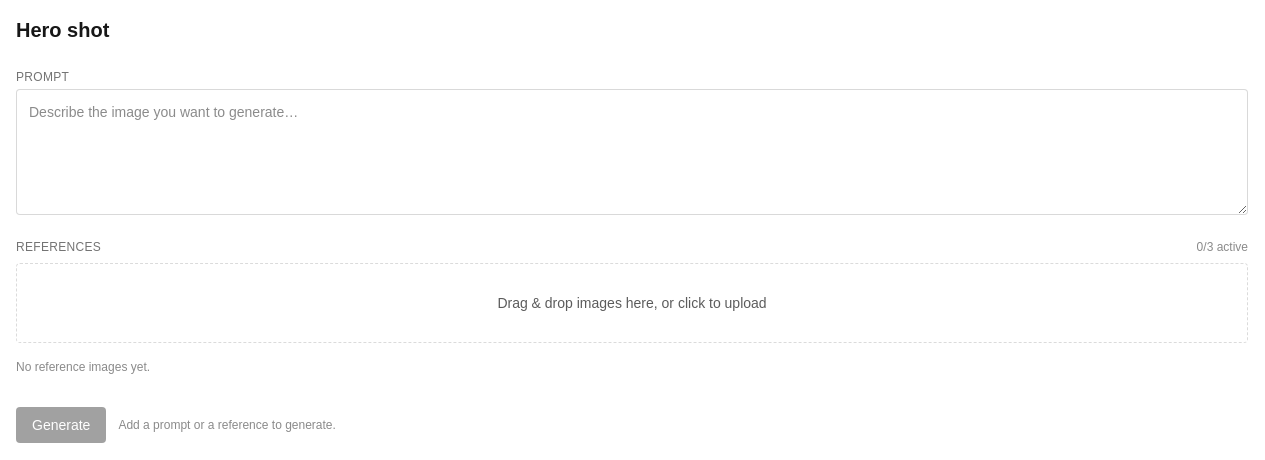
Test: TaskDetail — rename gate (BI-030.3) › restores the field when the rename is declined
The image size is (1265, 460).
Replace the text in the field named "Task name" with "Hero banner": (632, 30) [16, 16, 1248, 45]
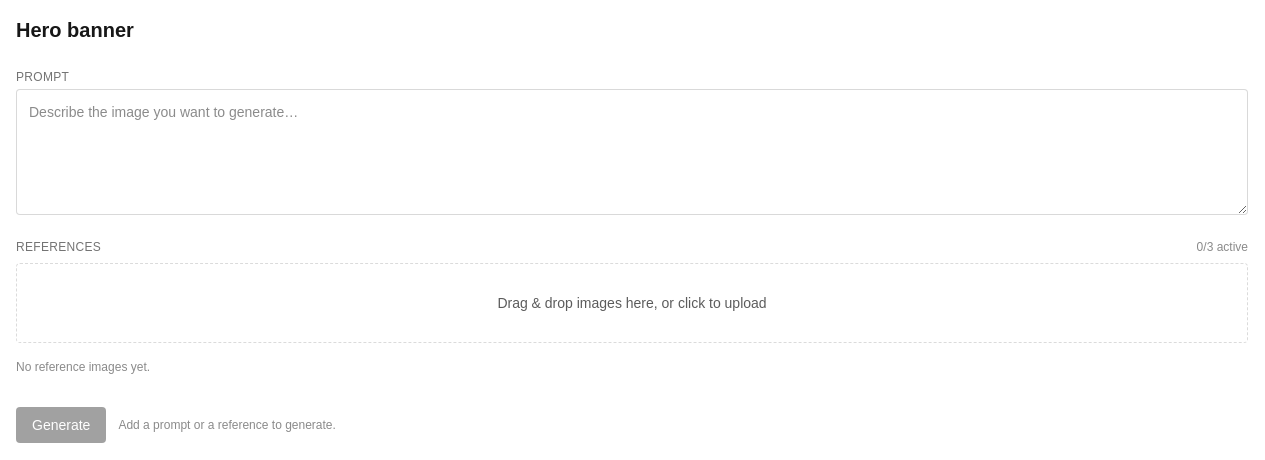
Leave the field named "Task name", box [16, 16, 1248, 45]
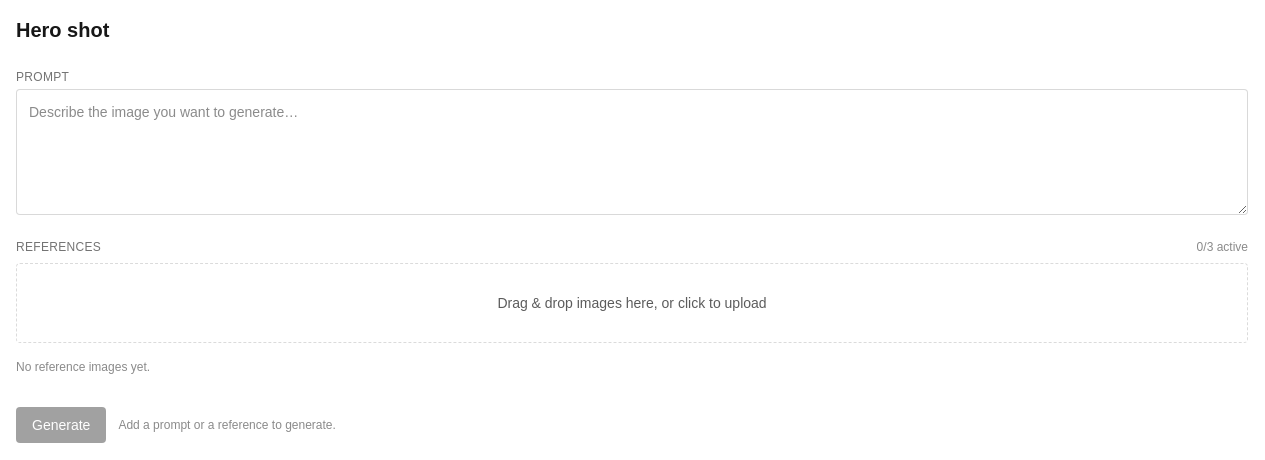
Now the field named "Task name" holds "Hero shot", box [16, 16, 1248, 45]
